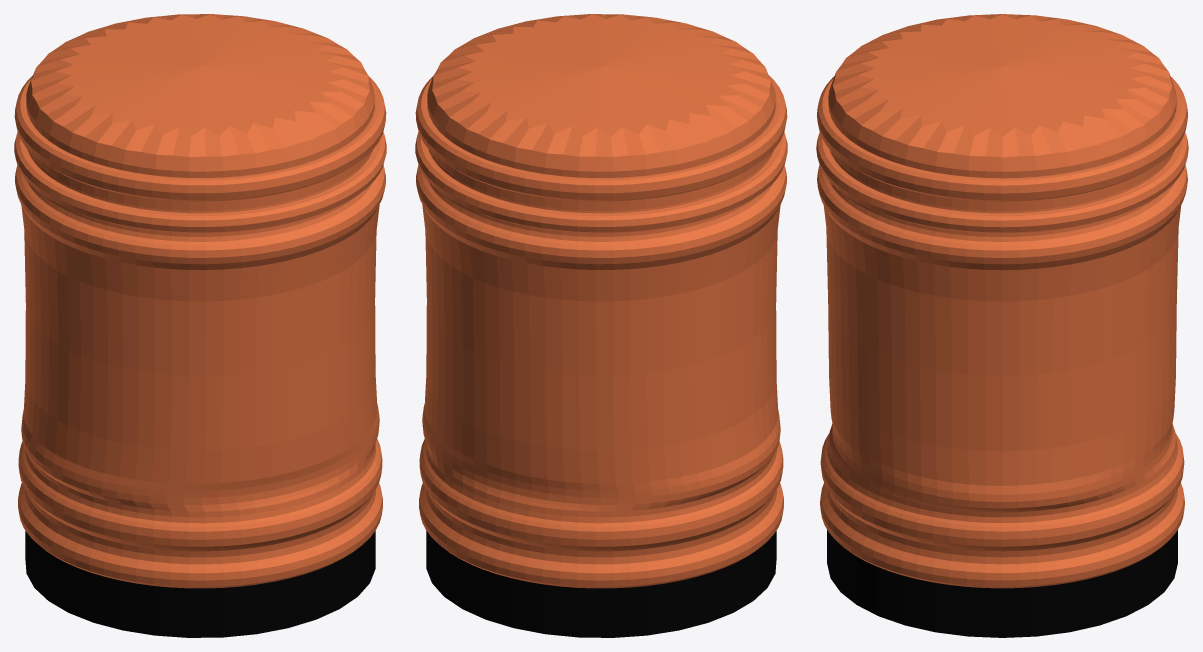
Rendered from barrel 1.fbx.
3 views of the same model, side by side, from view 1: azimuth 30°, elevation 25°; view 2: azimuth 150°, elevation 25°; view 3: azimuth 270°, elevation 25° (orthographic).
Parts seen in each view (by area): view 1: Barrel; view 2: Barrel; view 3: Barrel.
Boxes of the visible parts, x1,y1,x2,y2 form: Barrel: (14,14,386,637); Barrel: (415,14,787,637); Barrel: (816,14,1188,637).
Bounding box in the file's own units: 495 × 728 × 495.
